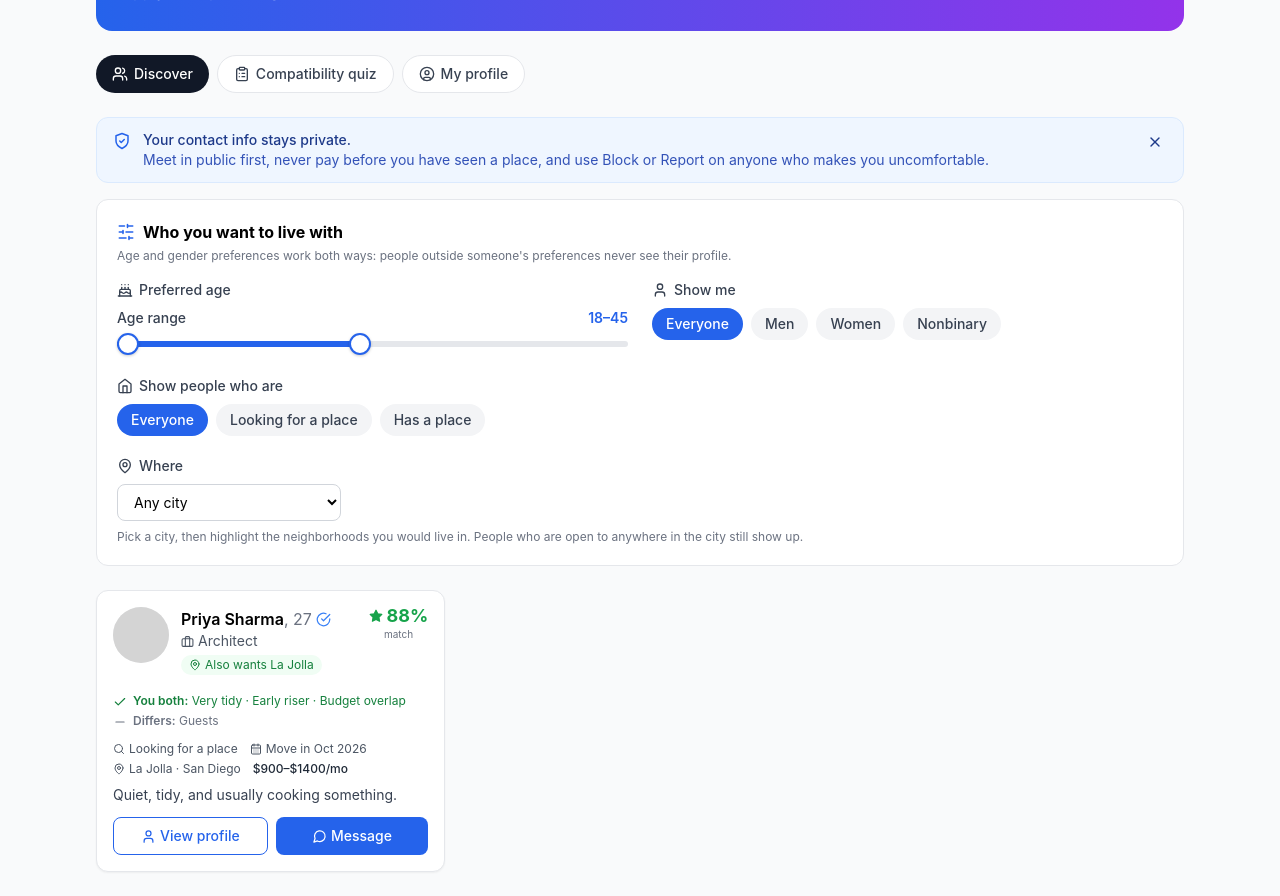
Test: HousematesHub › lets you report a real profile with a reason
(page scrolled)
Expected: the heading "Priya Sharma, 27" is shown, [181, 607, 312, 631]
Click the button named "view profile".
click(141, 635)  # box [96, 590, 445, 872]
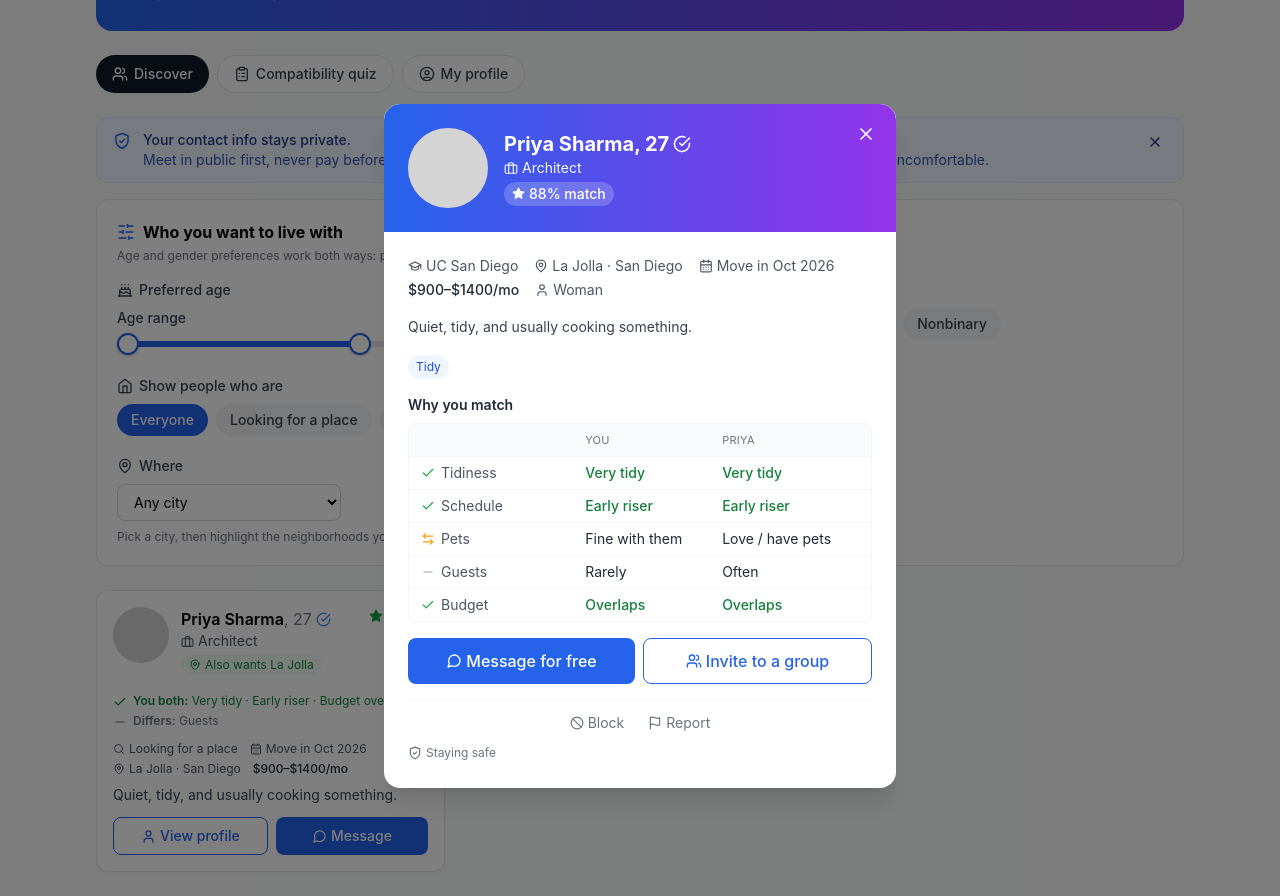
Click the button "Report".
click(679, 723)  # box [648, 713, 710, 733]
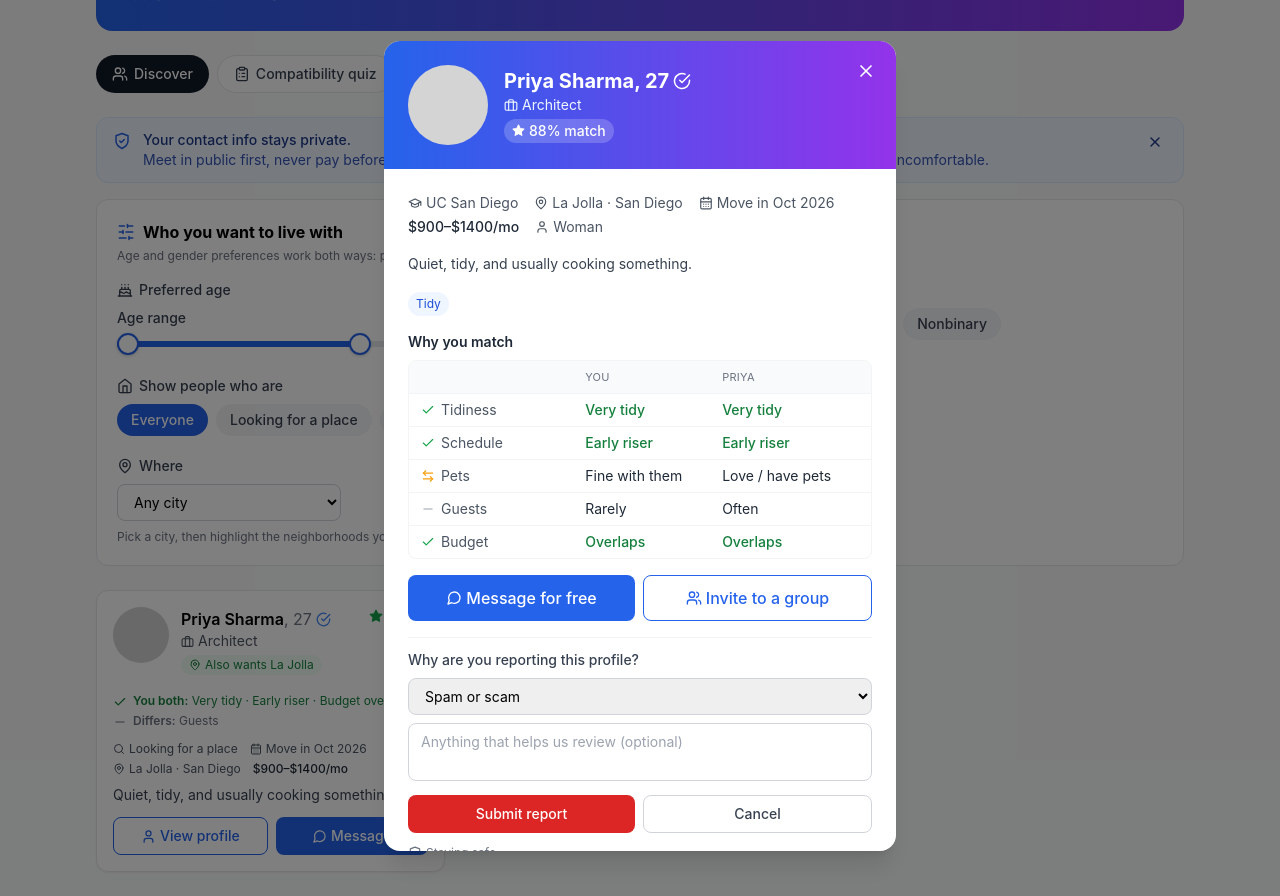
Select "Harassment" in the dropdown labelled "Why are you reporting this profile?" at (640, 696), box [408, 678, 872, 715]
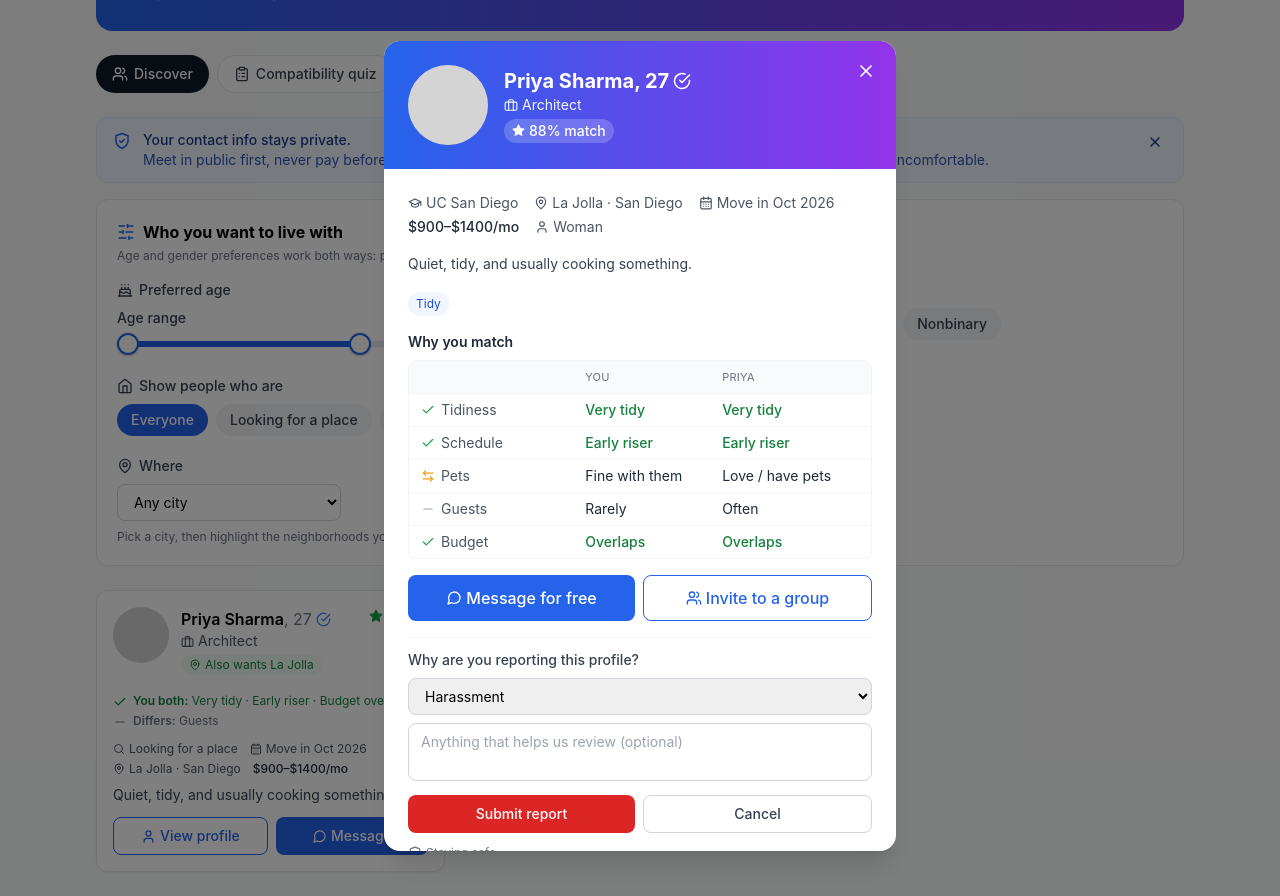
Click the button "Submit report".
click(522, 814)  # box [408, 795, 635, 833]
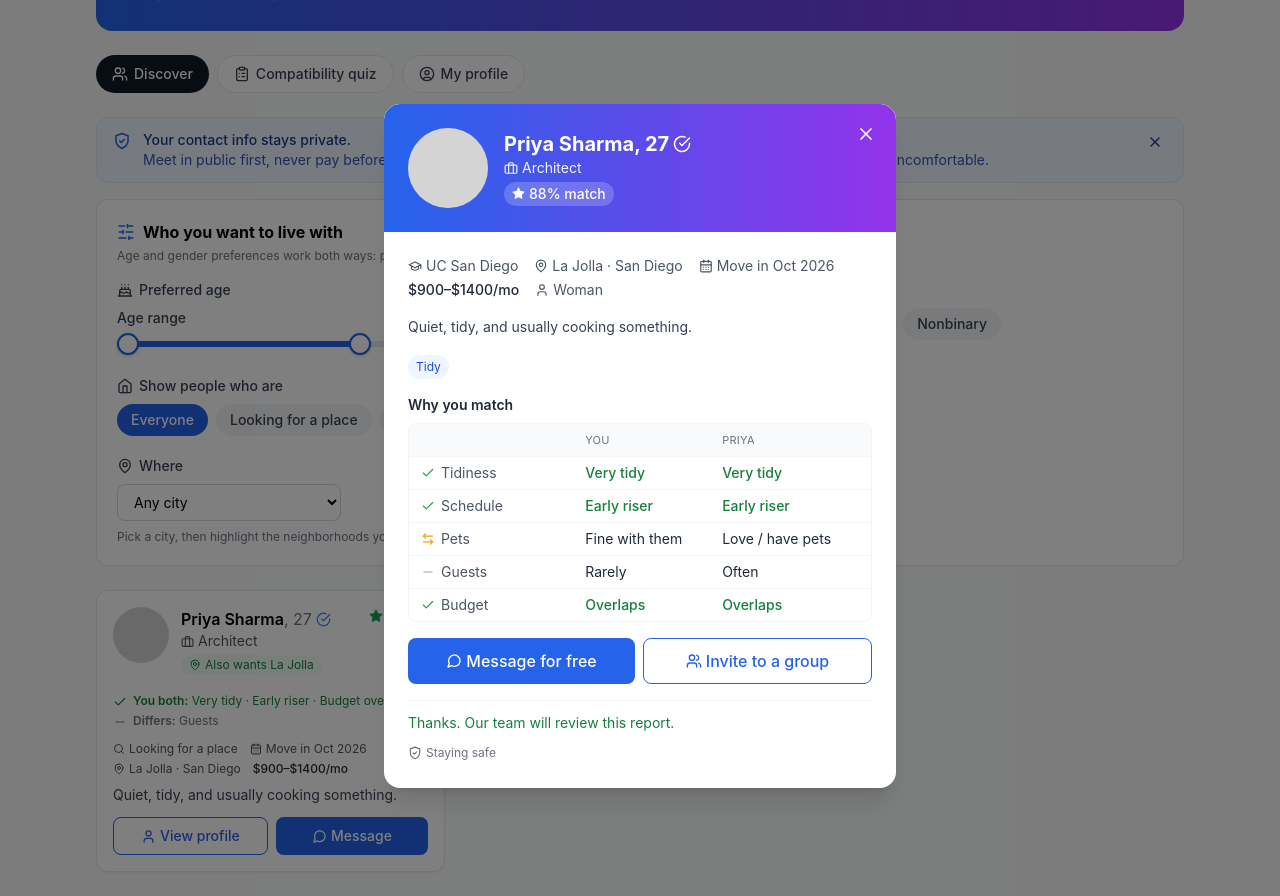
Now the text "Thanks. Our team will review this report." is shown, box [408, 714, 674, 731]
